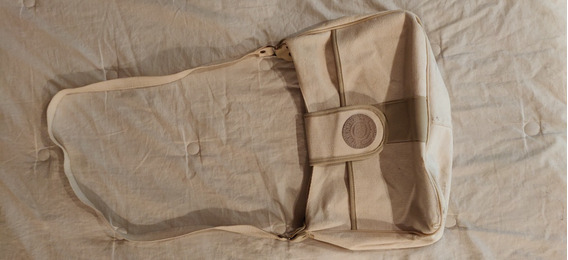cartera: (46, 8, 456, 254)
